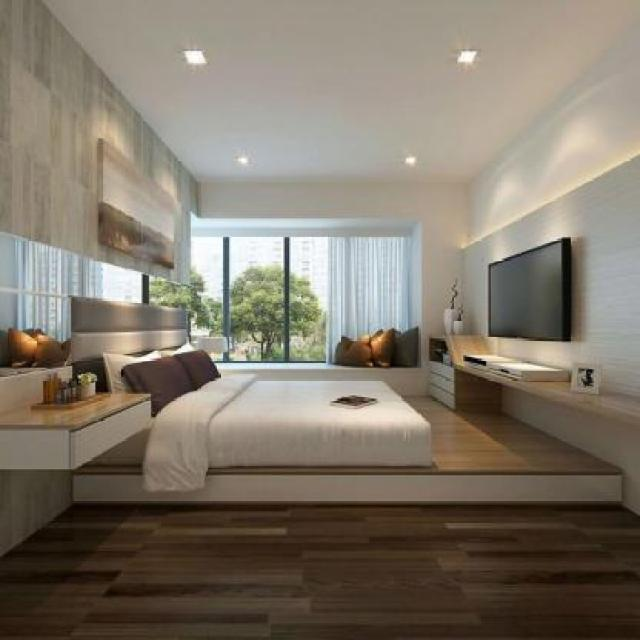floor: (0, 503, 640, 640)
